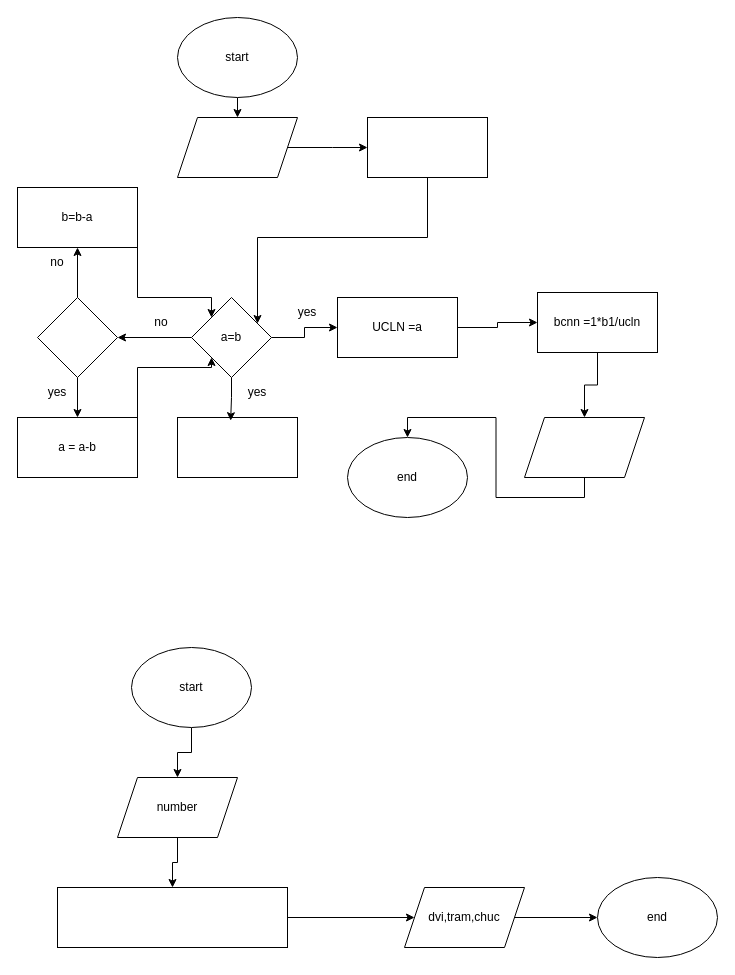
The diagram is 735 pixels wide and 975 high, and some of its shapes have lost their labels. The shapes that lost their labels are listed below. From the top down, each one's centre as x and y in pixels, then its label:
At point (237, 147): "nhập a,b".
At point (427, 147): "luu tru a1,b1".
At point (77, 337): "a>b".
At point (237, 447): "ước chung lớn nhất =a".
At point (584, 447): "bcnn".
At point (172, 917): "tram = number/100; chuc = number%100/10 dvi = number%10".
